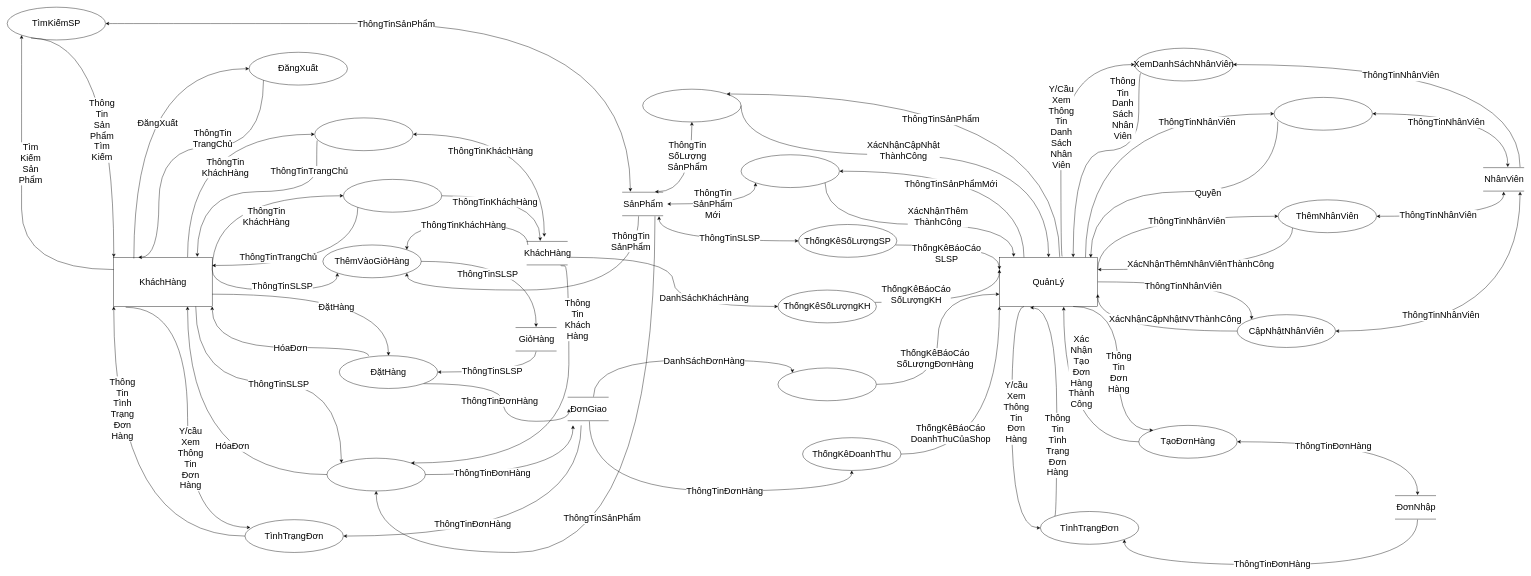
This 1531x576 diagram has some shape labels left out. Here are the shapes that lost their labels. From the top down, the box of each, then its label:
(642, 89, 741, 122): CậpNhậtSốLượngSP
(1274, 97, 1372, 130): PhânQuyền
(314, 117, 413, 151): ĐăngNhập
(741, 154, 839, 188): ThêmSPMới
(343, 179, 442, 212): TạoTàiKhoản
(778, 368, 876, 401): ThốngKêĐơnHàng
(327, 458, 425, 491): MuaNgay
